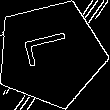L_E: (21, 33, 80, 75)
